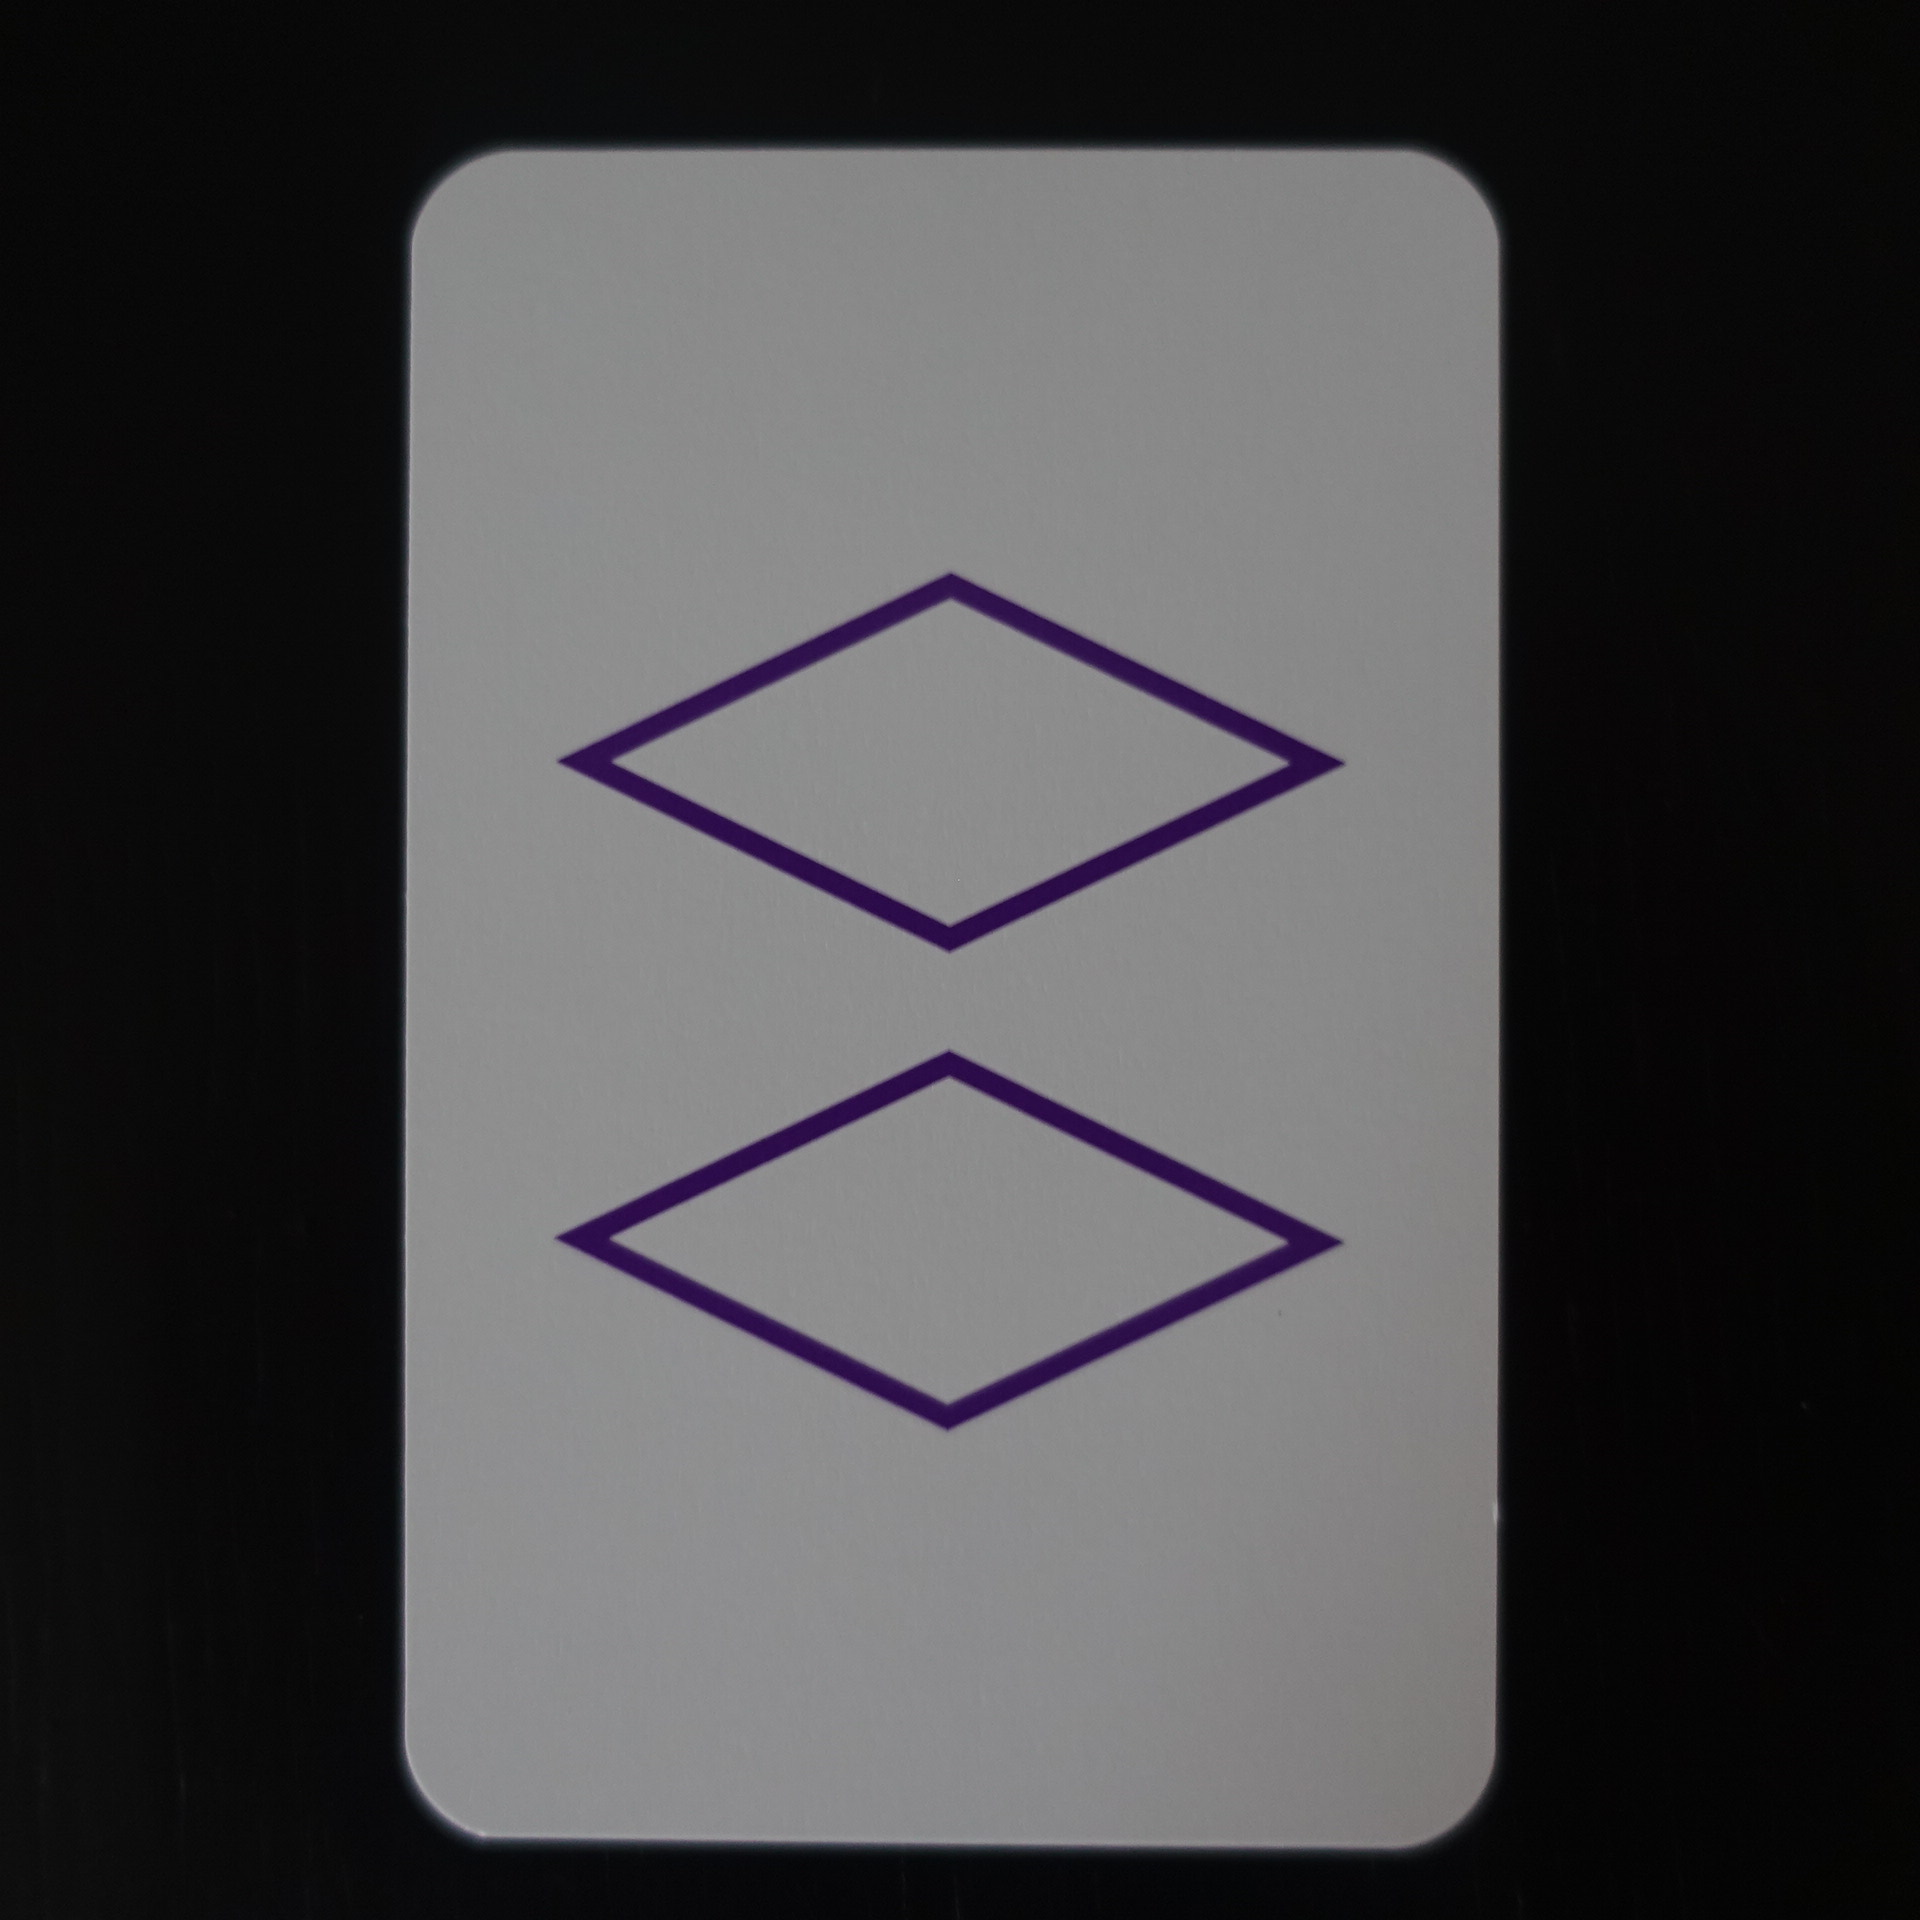c-2-f-d-r: (369, 114, 1542, 1883)
